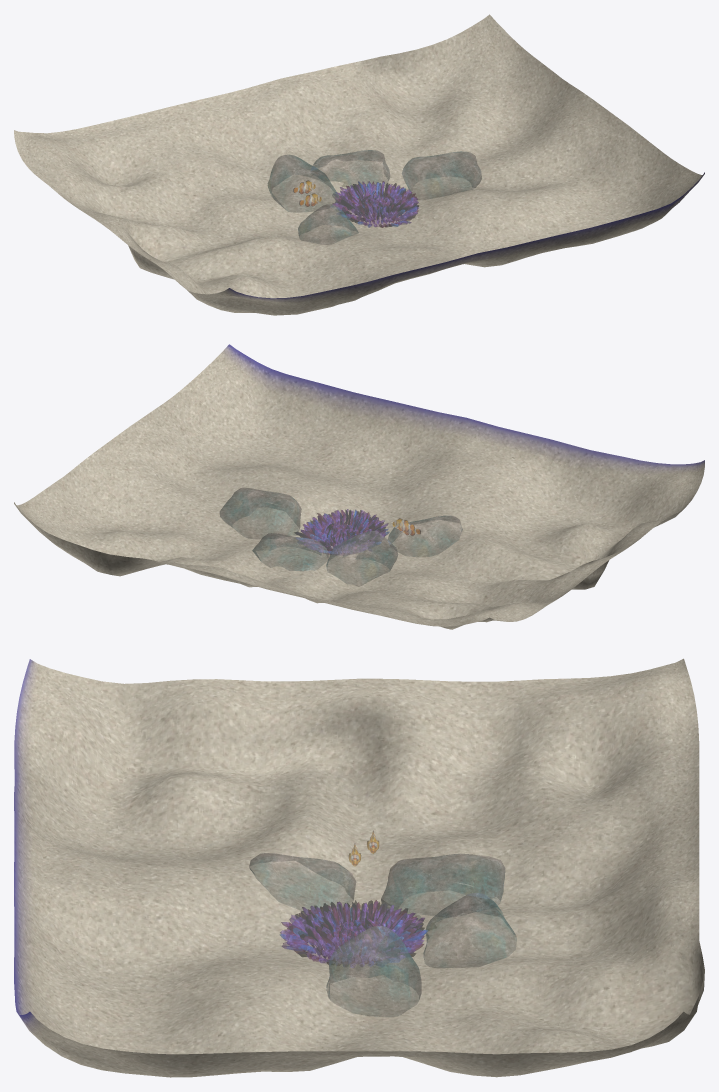
Rendered from ocean.glb.
The picture shows the model from 3 angles, top to bottom: view 1: azimuth 30°, elevation 25°; view 2: azimuth 150°, elevation 25°; view 3: azimuth 270°, elevation 25°; orthographic projection. The views are drawn at different scales.
Parts seen in each view (by area): view 1: Ocean, Coral; view 2: Ocean, Coral; view 3: Ocean, Coral.
Boxes of the visible parts, bbox=[...] form: Ocean: bbox=[14, 14, 704, 315]; Coral: bbox=[332, 181, 418, 227]; Ocean: bbox=[14, 344, 704, 629]; Coral: bbox=[294, 509, 389, 554]; Ocean: bbox=[14, 658, 704, 1077]; Coral: bbox=[280, 900, 427, 967].
Bounding box in the file's own units: 47.64 × 6.09 × 37.65.
Materials: 4 (4 with a texture image).
